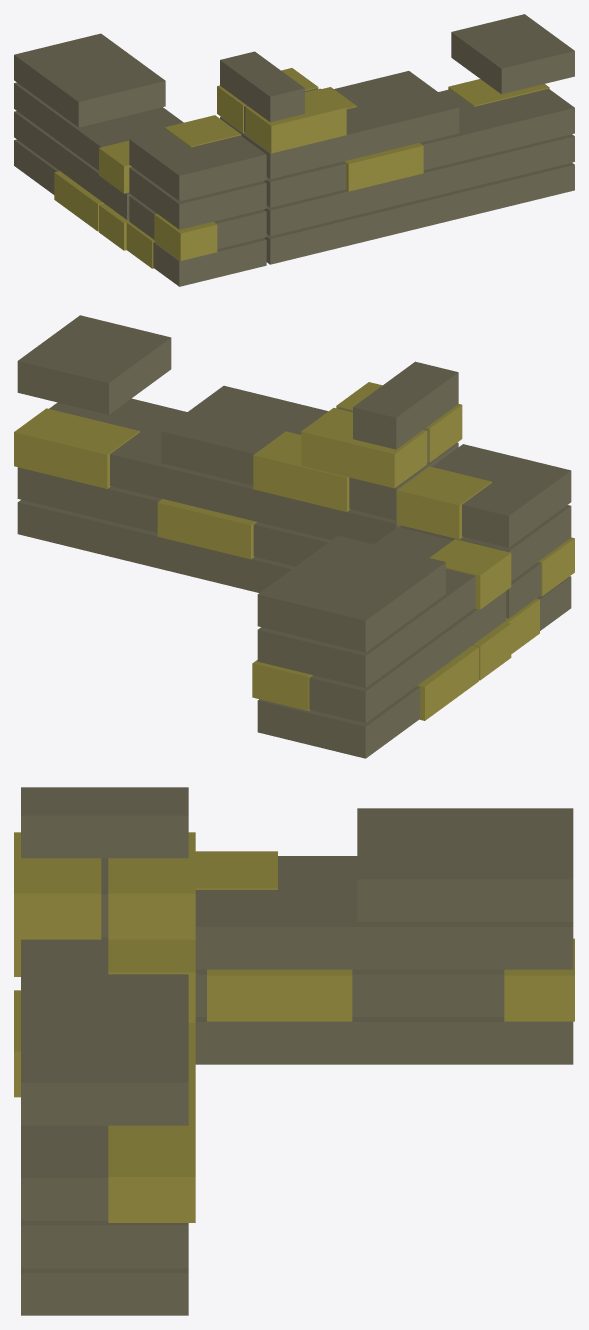
Rendered from SM_PretilEsquinaPaso_v2_Irregular_e0_Sano_LOD1.fbx.
3 renders of one model, top to bottom at view 1: azimuth 30°, elevation 25°; view 2: azimuth 150°, elevation 25°; view 3: azimuth 270°, elevation 25°, orthographic. The views are drawn at different scales.
Visible parts, largest first — view 1: SM_pretil_azotea_v48_LOD1; view 2: SM_pretil_azotea_v48_LOD1; view 3: SM_pretil_azotea_v48_LOD1.
Part boxes in pixels (x1,y1,x2,y2): SM_pretil_azotea_v48_LOD1: (14,14,574,286); SM_pretil_azotea_v48_LOD1: (14,315,574,758); SM_pretil_azotea_v48_LOD1: (14,787,574,1315).
Size of the model in its own units: 4.41 by 1.78 by 3.21.
